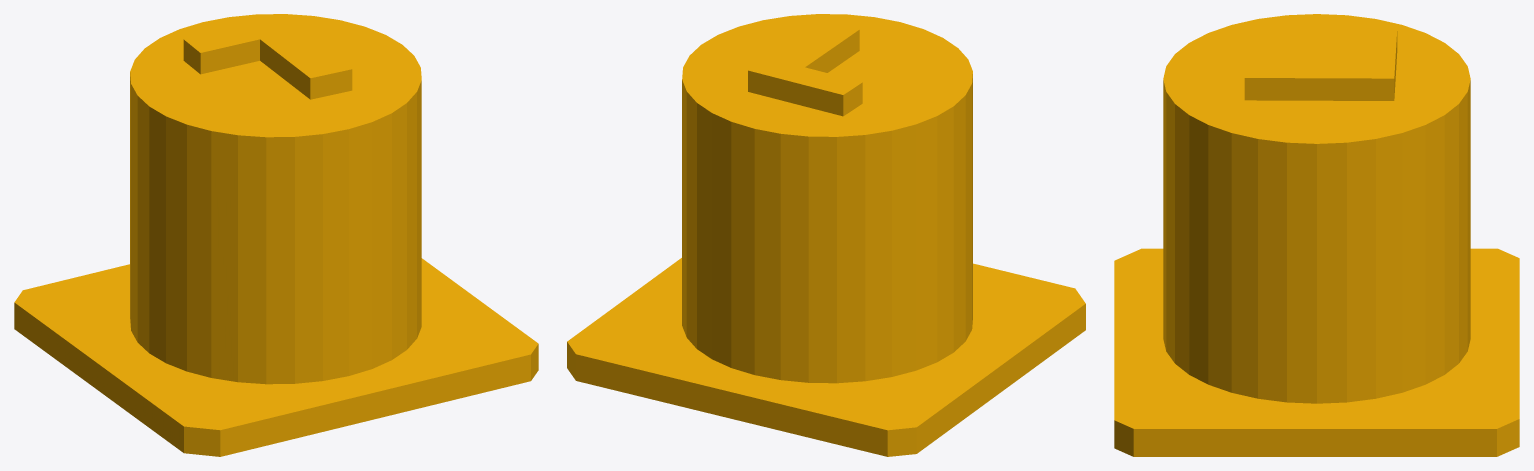
The model's file is tophat.glb.
3 renders of one model, left to right at view 1: azimuth 30°, elevation 25°; view 2: azimuth 150°, elevation 25°; view 3: azimuth 270°, elevation 25°, orthographic. The views are drawn at different scales.
Visible parts, largest first — view 1: Cube; view 2: Cube; view 3: Cube.
Boxes of the visible parts, box(x1,y1,x2,y2) form: Cube: box(14, 14, 538, 456); Cube: box(567, 14, 1085, 456); Cube: box(1114, 14, 1519, 456).
Size of the model in its own units: 2.77 by 2.23 by 2.64.
